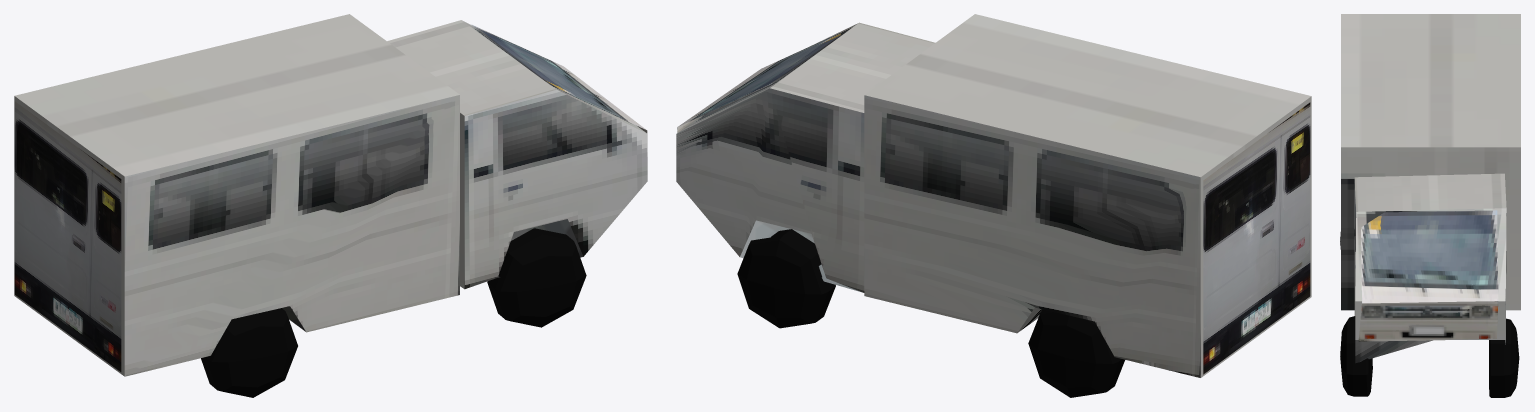
The model's file is van.fbx.
3 renders of one model, left to right at view 1: azimuth 30°, elevation 25°; view 2: azimuth 150°, elevation 25°; view 3: azimuth 270°, elevation 25°, orthographic. The views are drawn at different scales.
Visible parts, largest first — view 1: Cube, Cube.003, Cube.007, Cube.005, Cube.001, Cube.006; view 2: Cube, Cube.003, Cube.007, Cube.004, Cube.002, Cube.006; view 3: Cube, Cube.006, Cube.003, Cube.004, Cube.005.
Boxes of the visible parts, box(x1,y1,x2,y2) form: Cube: box(14, 14, 459, 376); Cube.003: box(387, 20, 647, 289); Cube.007: box(14, 101, 121, 371); Cube.005: box(487, 228, 586, 327); Cube.001: box(201, 308, 297, 397); Cube.006: box(471, 24, 647, 132); Cube: box(864, 14, 1311, 377); Cube.003: box(676, 22, 935, 292); Cube.007: box(1203, 102, 1310, 374); Cube.004: box(737, 229, 835, 328); Cube.002: box(1028, 309, 1124, 397); Cube.006: box(677, 32, 841, 132); Cube: box(1341, 14, 1520, 310); Cube.006: box(1358, 210, 1498, 341); Cube.003: box(1354, 173, 1506, 363); Cube.004: box(1489, 318, 1519, 397); Cube.005: box(1340, 316, 1372, 396).
Size of the model in its own units: 1334 by 619 by 477.
